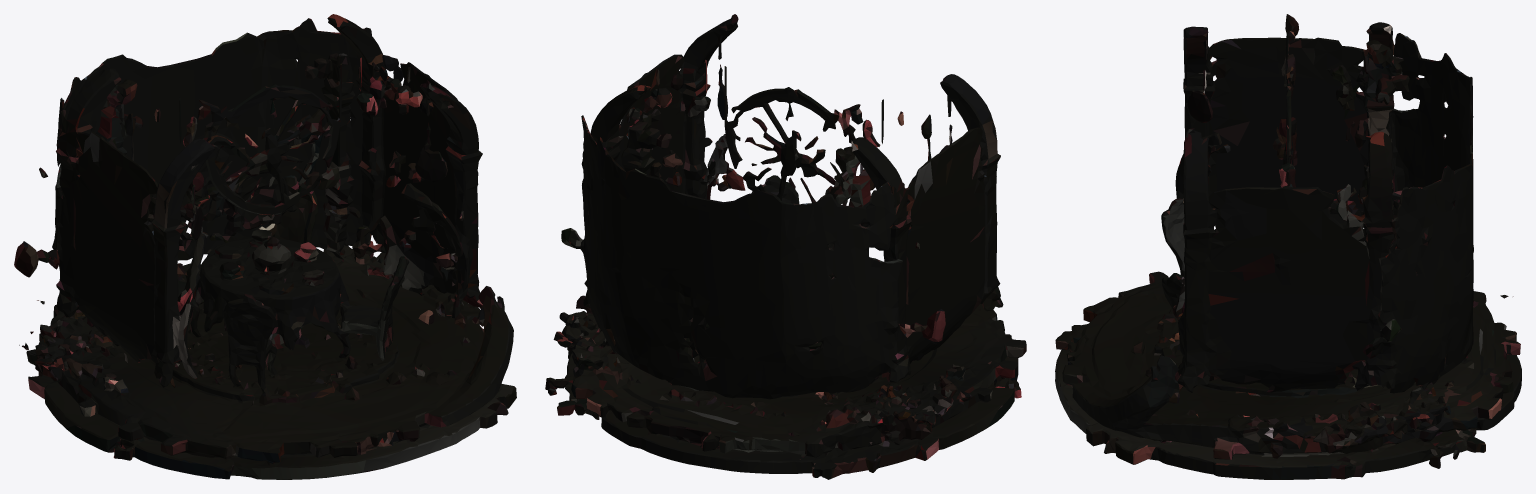
File: mesa-cha-04.glb
The picture shows the model from 3 angles, left to right: view 1: azimuth 30°, elevation 25°; view 2: azimuth 150°, elevation 25°; view 3: azimuth 270°, elevation 25°; orthographic projection. The views are drawn at different scales.
Visible parts, largest first — view 1: SM_Mesa_Cha_04; view 2: SM_Mesa_Cha_04; view 3: SM_Mesa_Cha_04.
Part boxes in pixels (box(x1,y1,x2,y2)): SM_Mesa_Cha_04: box(14, 14, 516, 479); SM_Mesa_Cha_04: box(545, 14, 1026, 479); SM_Mesa_Cha_04: box(1055, 14, 1521, 479).
Bounding box in the file's own units: 5.46 × 4 × 5.46.
1 material, 1 textured.
